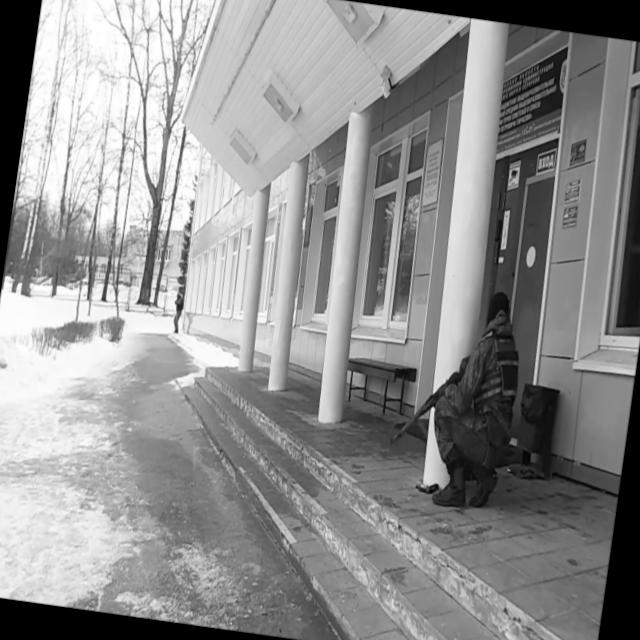gun: (390, 343, 472, 458)
person: (170, 291, 186, 336)
person with a gun: (382, 278, 531, 515)
